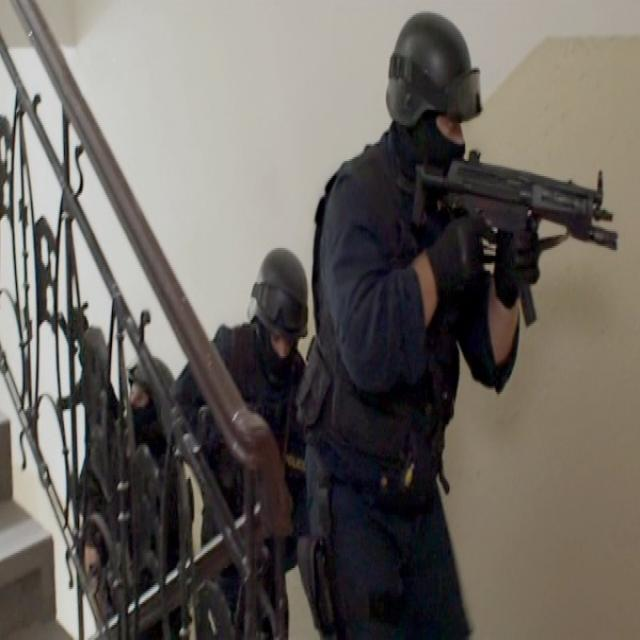rifle: (418, 168, 620, 332)
